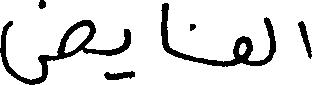X: (0, 0, 93, 84), (234, 31, 251, 70), (264, 12, 275, 69), (300, 16, 311, 63), (162, 0, 167, 84), (124, 24, 130, 83)
